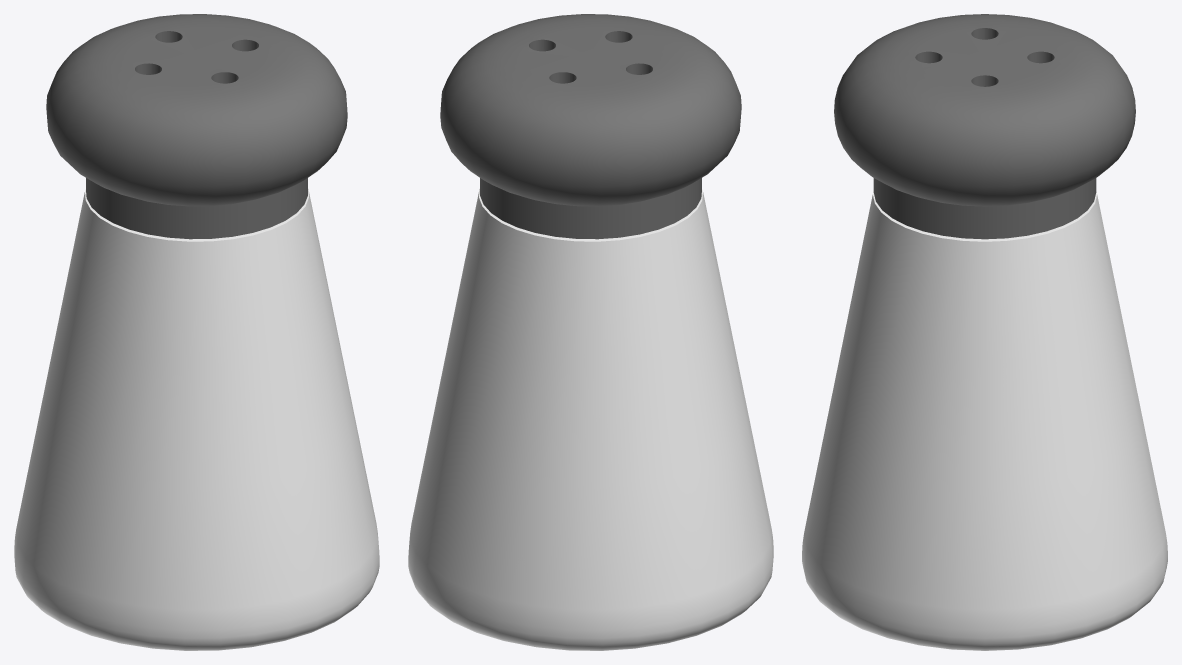
The model's file is salt.fbx.
3 views of the same model, side by side, from view 1: azimuth 30°, elevation 25°; view 2: azimuth 150°, elevation 25°; view 3: azimuth 270°, elevation 25° (orthographic).
Visible parts, largest first — view 1: Circle.2229; view 2: Circle.2229; view 3: Circle.2229.
Part boxes in pixels (left/top/right/bottom): Circle.2229: left=14, top=14, right=379, bottom=650; Circle.2229: left=408, top=14, right=773, bottom=650; Circle.2229: left=802, top=14, right=1167, bottom=650.
Size of the model in its own units: 122 by 194 by 122.
1 material, 1 textured.
